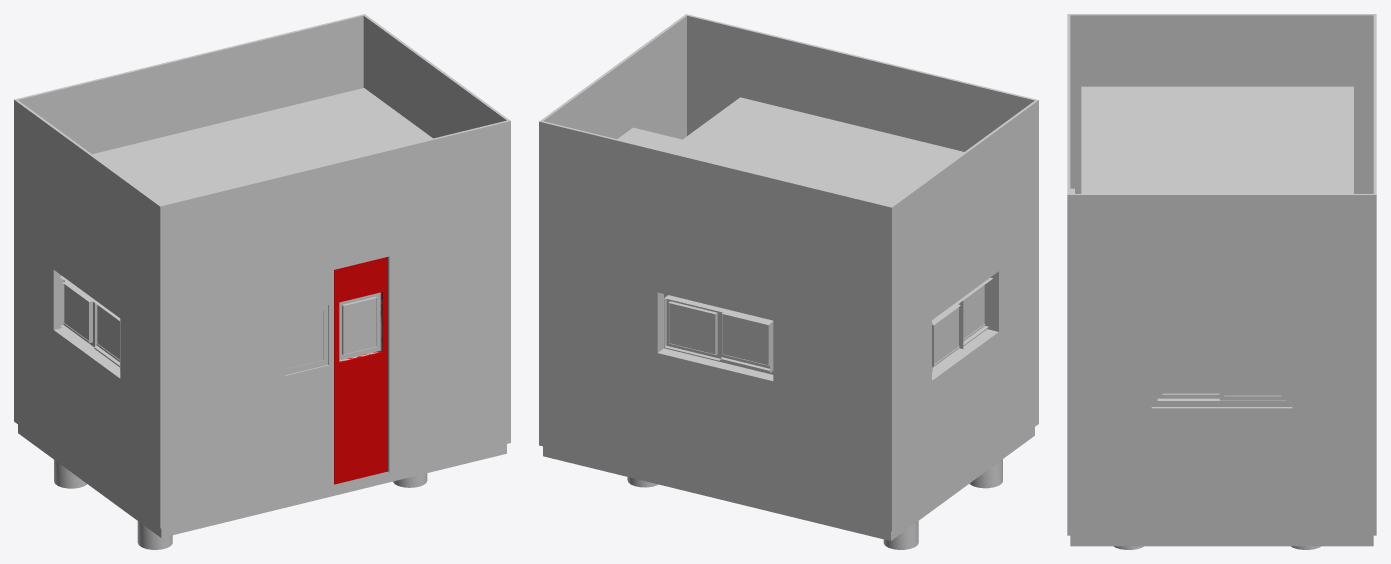
3 renders of one model, left to right at view 1: azimuth 30°, elevation 25°; view 2: azimuth 150°, elevation 25°; view 3: azimuth 270°, elevation 25°, orthographic. The views are drawn at different scales.
Parts seen in each view (by area): view 1: h, g, l, k, b, j, f; view 2: h, g, k, j, b, f; view 3: h, g, k, j, b, c.
Boxes of the visible parts, x1,y1,x2,y2 form: h: (14, 14, 510, 528); g: (92, 88, 432, 204); l: (281, 257, 387, 497); k: (63, 284, 376, 367); b: (18, 425, 506, 537); j: (56, 272, 382, 375); f: (54, 460, 427, 549); h: (539, 14, 1038, 531); g: (617, 97, 963, 205); k: (669, 284, 985, 365); j: (659, 273, 996, 379); b: (543, 427, 1034, 540); f: (627, 459, 1002, 549); h: (1067, 14, 1376, 535); g: (1081, 86, 1353, 193); k: (1162, 351, 1281, 395); j: (1151, 344, 1292, 406); b: (1070, 536, 1373, 546); c: (1070, 535, 1373, 536).
Bounding box in the file's own units: 139 × 138 × 100.
